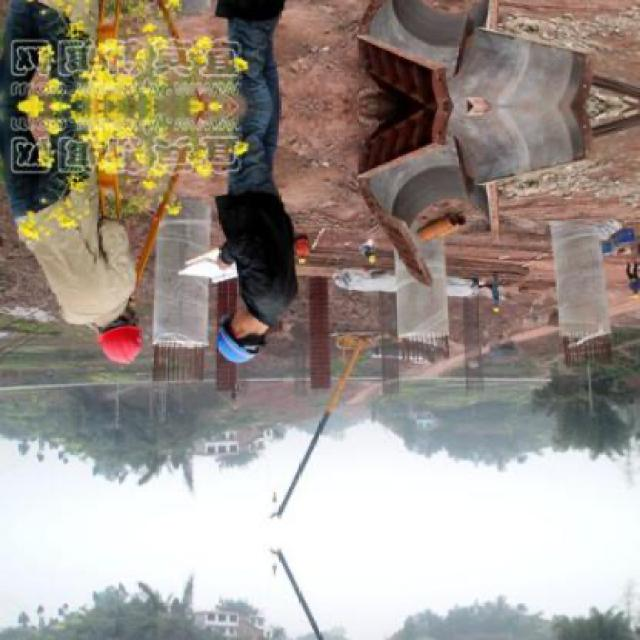con casco: (78, 256, 168, 376), (197, 277, 299, 381)
